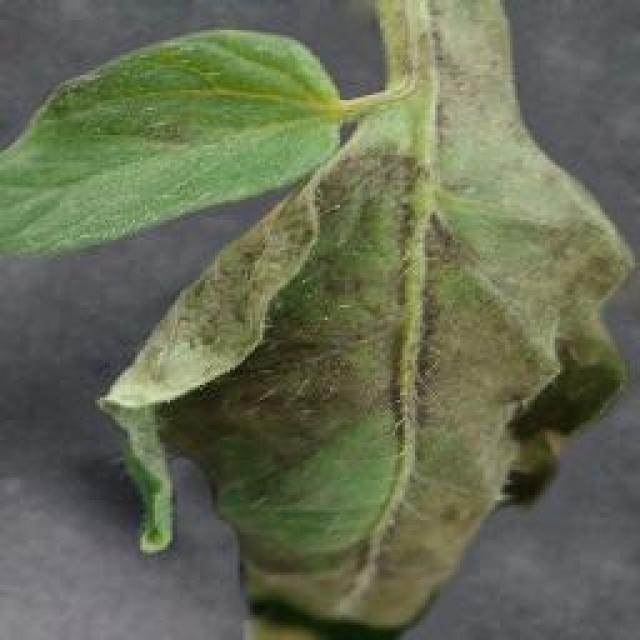Tomato Late Blight: (147, 154, 510, 588)
